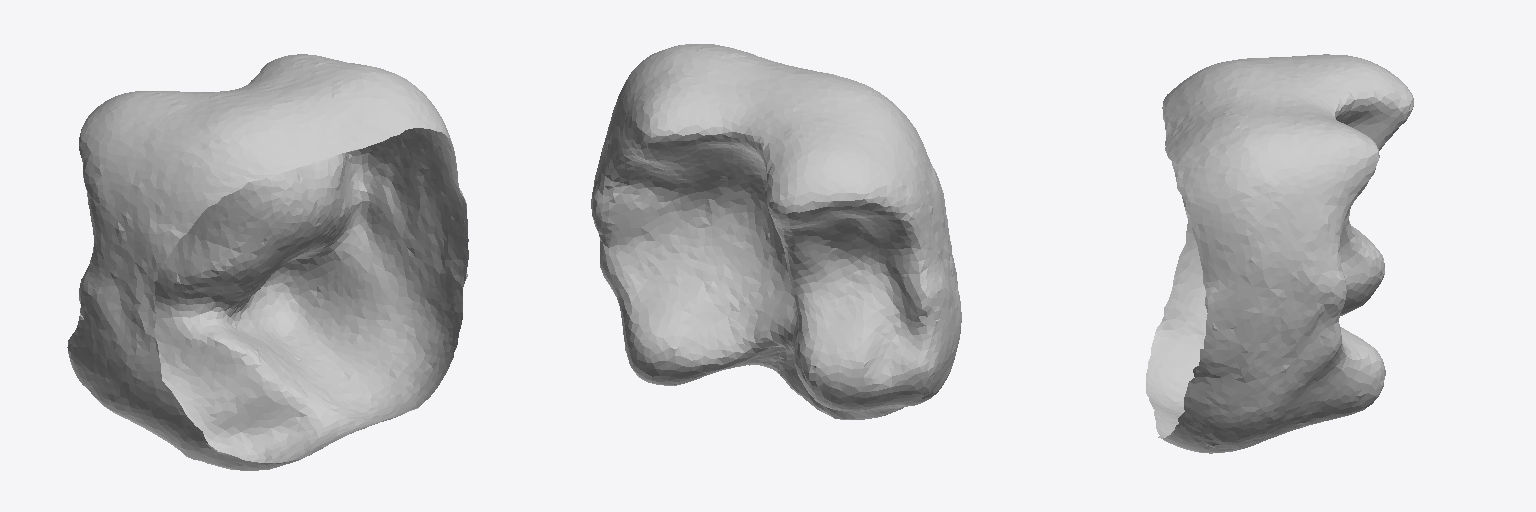
Rendered from AMNH-M-38792_M904_aligned.obj.
The picture shows the model from 3 angles: view 1: azimuth 30°, elevation 25°; view 2: azimuth 150°, elevation 25°; view 3: azimuth 270°, elevation 25°; orthographic projection.
Visible parts, largest first — view 1: curobj_export; view 2: curobj_export; view 3: curobj_export.
Boxes of the visible parts, box(x1,y1,x2,y2) form: curobj_export: box(67, 54, 468, 470); curobj_export: box(591, 44, 961, 419); curobj_export: box(1146, 54, 1413, 453).
Bounding box in the file's own units: 0.0321 × 0.03 × 0.0213.